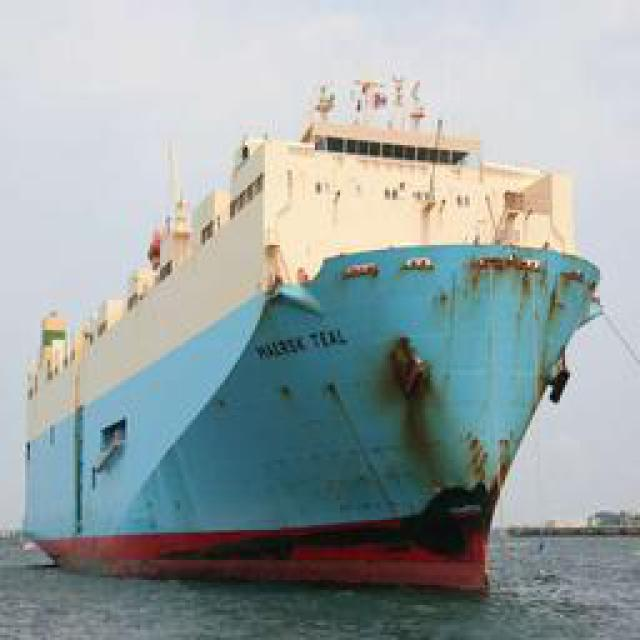Ship: (22, 107, 602, 597)
